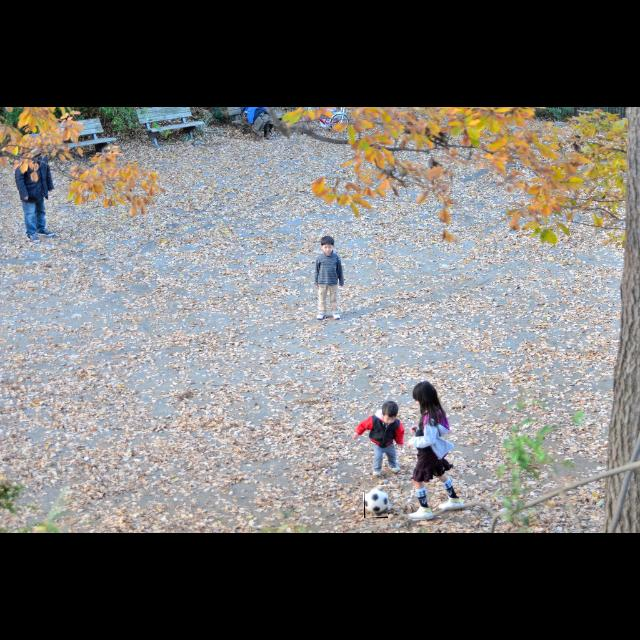Football: (364, 486, 388, 518)
